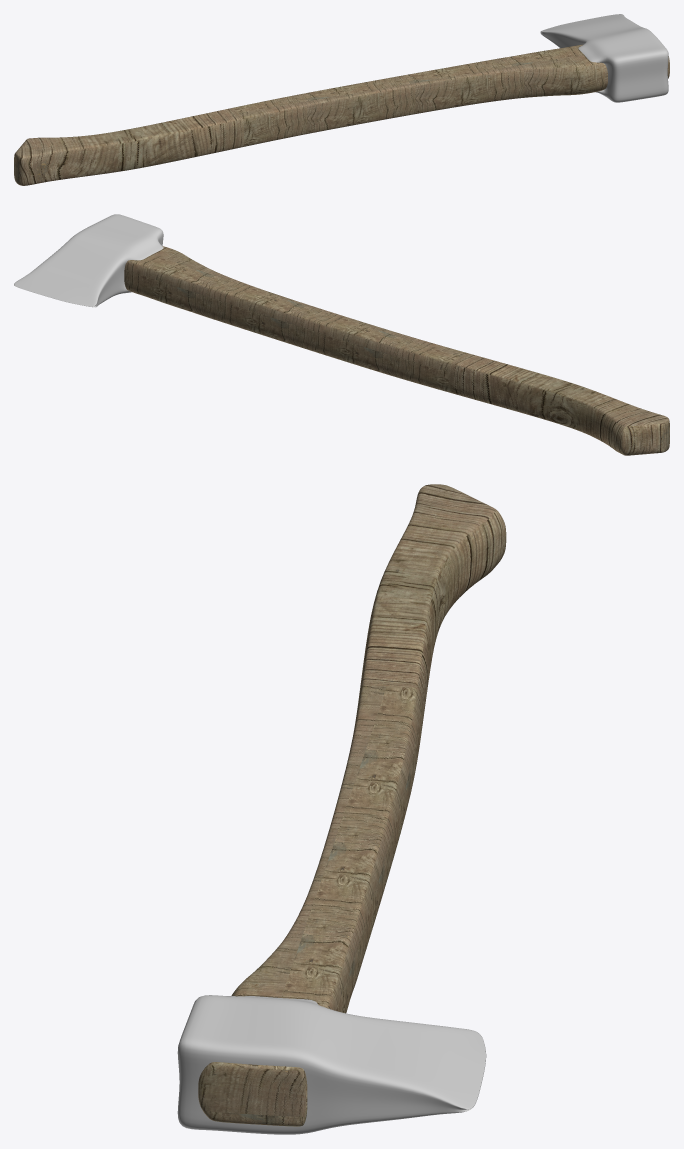
File: axe.fbx
3 views of the same model, one above another, from view 1: azimuth 30°, elevation 25°; view 2: azimuth 150°, elevation 25°; view 3: azimuth 270°, elevation 25° (orthographic). The views are drawn at different scales.
Parts seen in each view (by area): view 1: Axe; view 2: Axe; view 3: Axe.
Boxes of the visible parts, x1,y1,x2,y2 form: Axe: (14,14,669,185); Axe: (14,214,669,455); Axe: (177,484,506,1134).
Size of what is drawn, in the model's own units: 9.93 by 0.6968 by 2.31.
